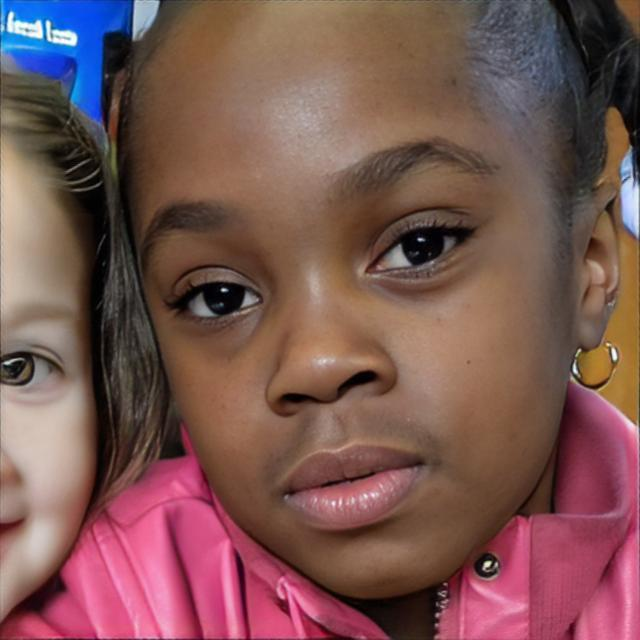happy: (1, 132, 98, 636)
neutral: (136, 0, 570, 594)
